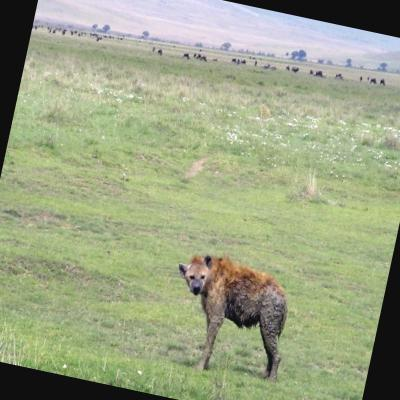hyenas: (140, 216, 321, 400)
